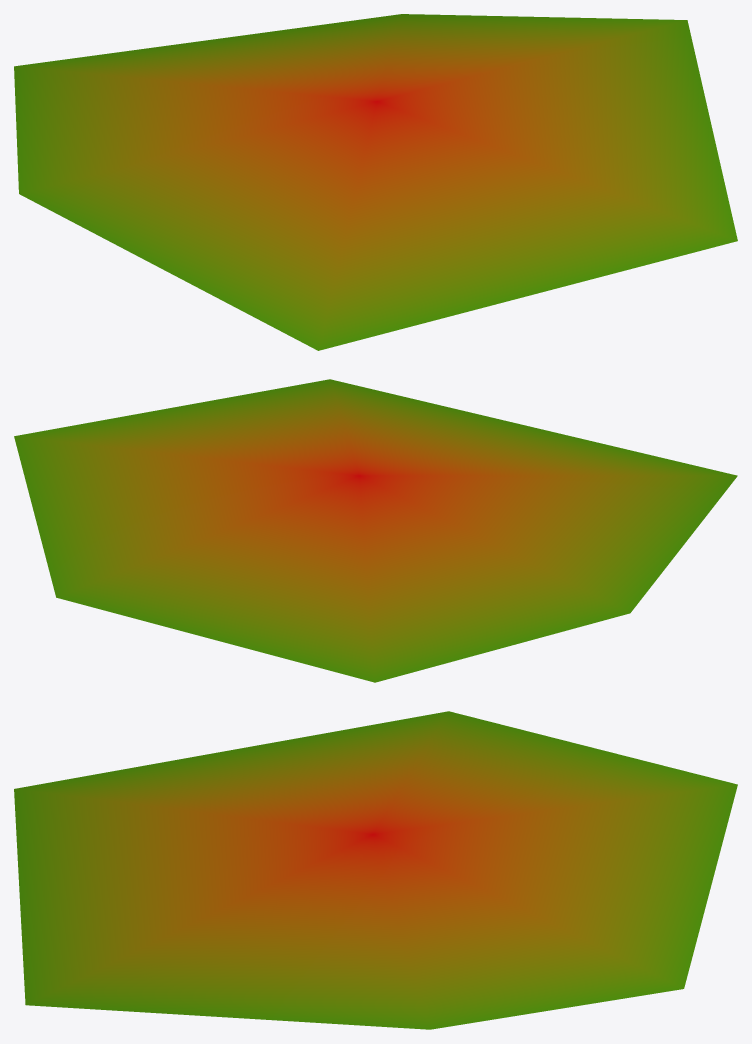
Rendered from Var3_LOD3.fbx.
3 views of the same model, one above another, from view 1: azimuth 30°, elevation 25°; view 2: azimuth 150°, elevation 25°; view 3: azimuth 270°, elevation 25° (orthographic). The views are drawn at different scales.
Visible parts, largest first — view 1: _98de_Var3_LOD3; view 2: _98de_Var3_LOD3; view 3: _98de_Var3_LOD3.
Part boxes in pixels (x1=…): _98de_Var3_LOD3: x1=14, y1=14, x2=737, y2=350; _98de_Var3_LOD3: x1=14, y1=379, x2=737, y2=682; _98de_Var3_LOD3: x1=14, y1=711, x2=737, y2=1029.
Bounding box in the file's own units: 40.65 × 4.05 × 36.69.
